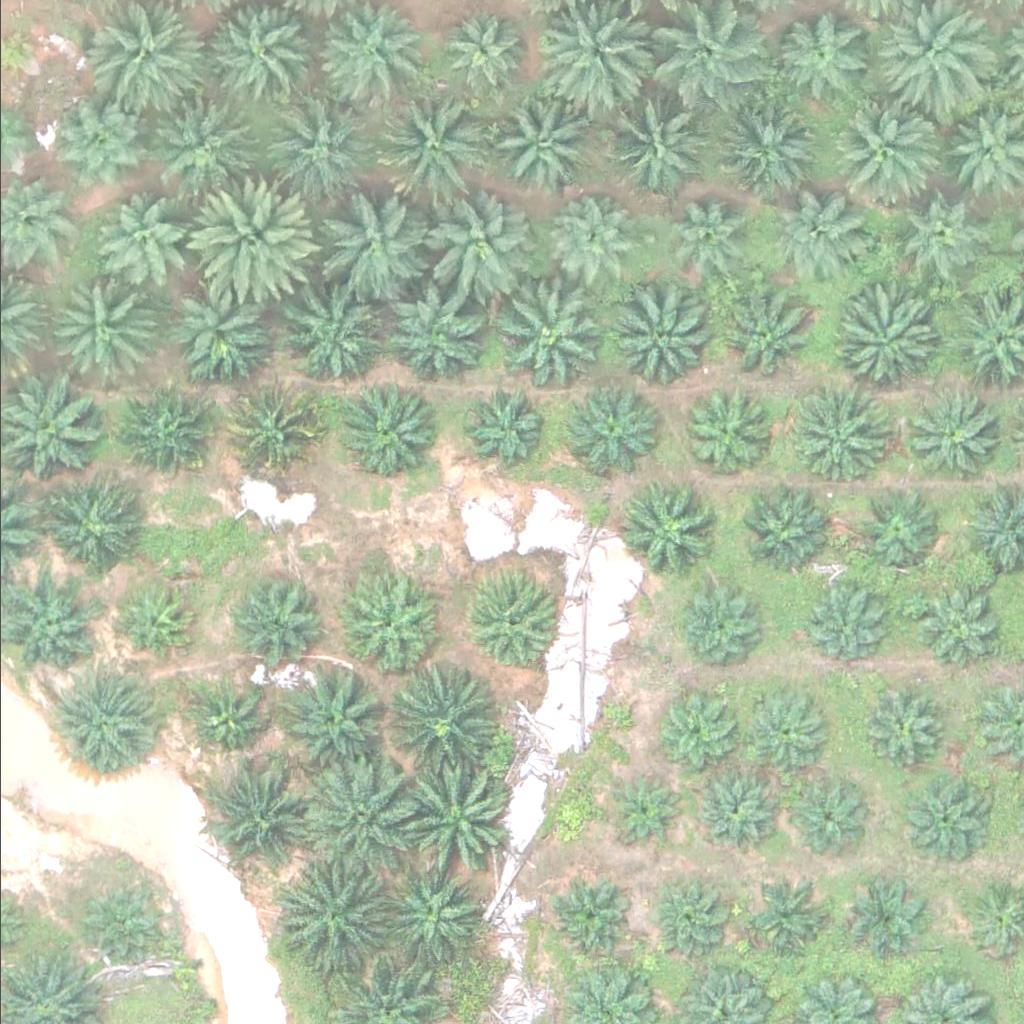Kelapa_Sawit: (187, 182, 313, 307), (275, 856, 389, 969), (321, 184, 435, 297), (592, 85, 706, 198), (374, 86, 487, 199), (262, 90, 375, 203), (380, 663, 493, 776), (491, 278, 604, 391), (647, 2, 760, 115), (416, 191, 529, 304), (605, 284, 719, 396), (869, 1, 983, 113), (301, 764, 414, 876), (397, 763, 510, 875), (824, 98, 937, 210), (283, 664, 384, 764), (341, 384, 442, 484), (282, 291, 383, 391), (45, 277, 146, 377), (153, 94, 254, 194), (52, 96, 153, 196), (382, 863, 483, 963), (727, 478, 828, 578), (611, 479, 712, 579), (783, 388, 884, 488), (827, 288, 928, 388), (489, 97, 590, 197), (777, 2, 878, 102), (209, 762, 309, 862), (49, 672, 149, 772), (341, 575, 441, 675), (376, 286, 476, 386), (176, 276, 276, 376), (456, 573, 556, 673), (556, 381, 656, 481), (712, 290, 812, 390), (768, 191, 868, 291), (712, 98, 812, 198), (74, 875, 162, 963), (236, 572, 324, 660), (41, 483, 129, 571), (230, 383, 318, 471), (909, 581, 997, 669), (807, 574, 895, 662), (859, 676, 947, 764), (904, 774, 992, 862), (541, 873, 629, 961), (674, 390, 762, 478), (461, 382, 549, 470), (436, 9, 524, 97), (122, 386, 210, 473), (98, 194, 186, 281), (672, 581, 760, 668), (655, 691, 743, 778), (740, 687, 828, 774), (779, 772, 867, 859), (695, 773, 783, 860), (651, 871, 739, 958), (748, 879, 836, 966), (845, 871, 933, 958), (854, 486, 942, 573), (910, 395, 998, 482), (891, 195, 979, 282), (647, 195, 735, 282), (542, 200, 630, 287), (610, 774, 686, 849), (117, 584, 193, 659), (192, 679, 267, 754)
